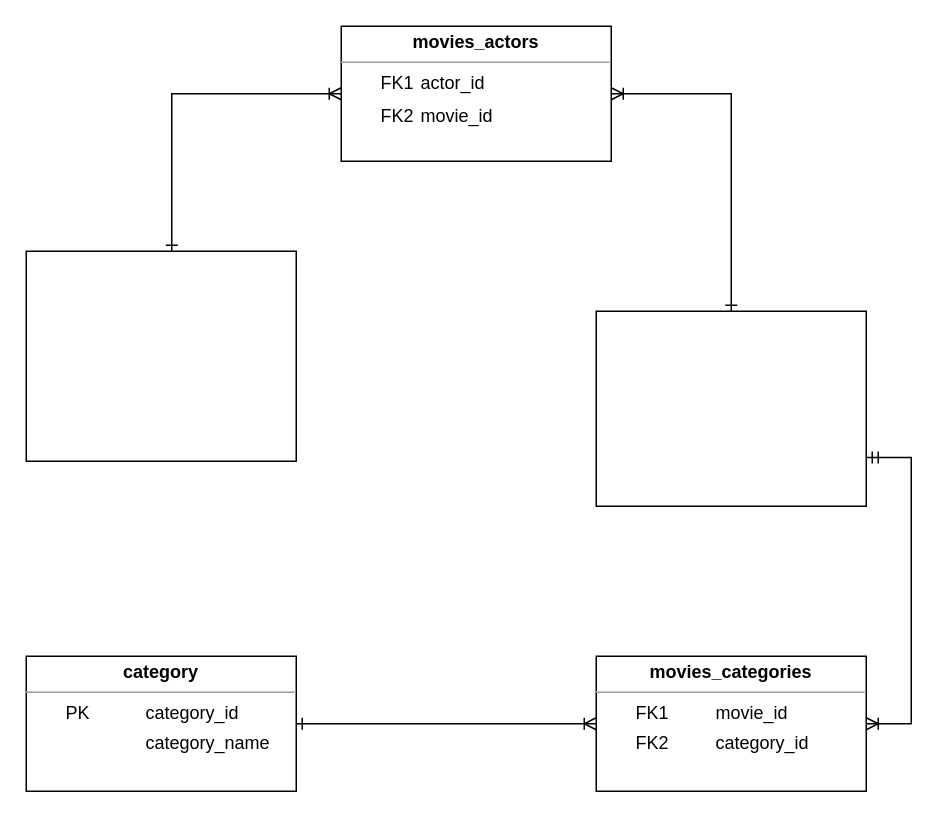
The diagram is 951 pixels wide and 818 high, and some of its shapes have lost their labels. The shapes that lost their labels are listed below. From the top down, each one's box as (x1, y1, x2, y2) in pixels, then its label:
(25, 250, 296, 461): actors PK actor_id name birthdate
(595, 310, 866, 506): movies PK movie_ id title published_date note
